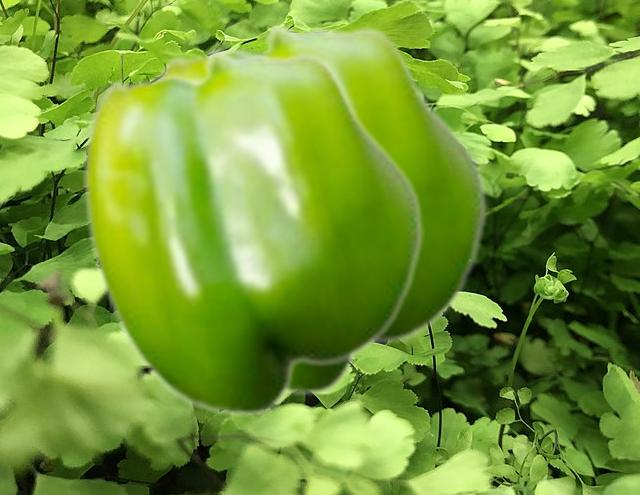bell_pepper: (150, 22, 487, 396), (83, 48, 423, 417)
